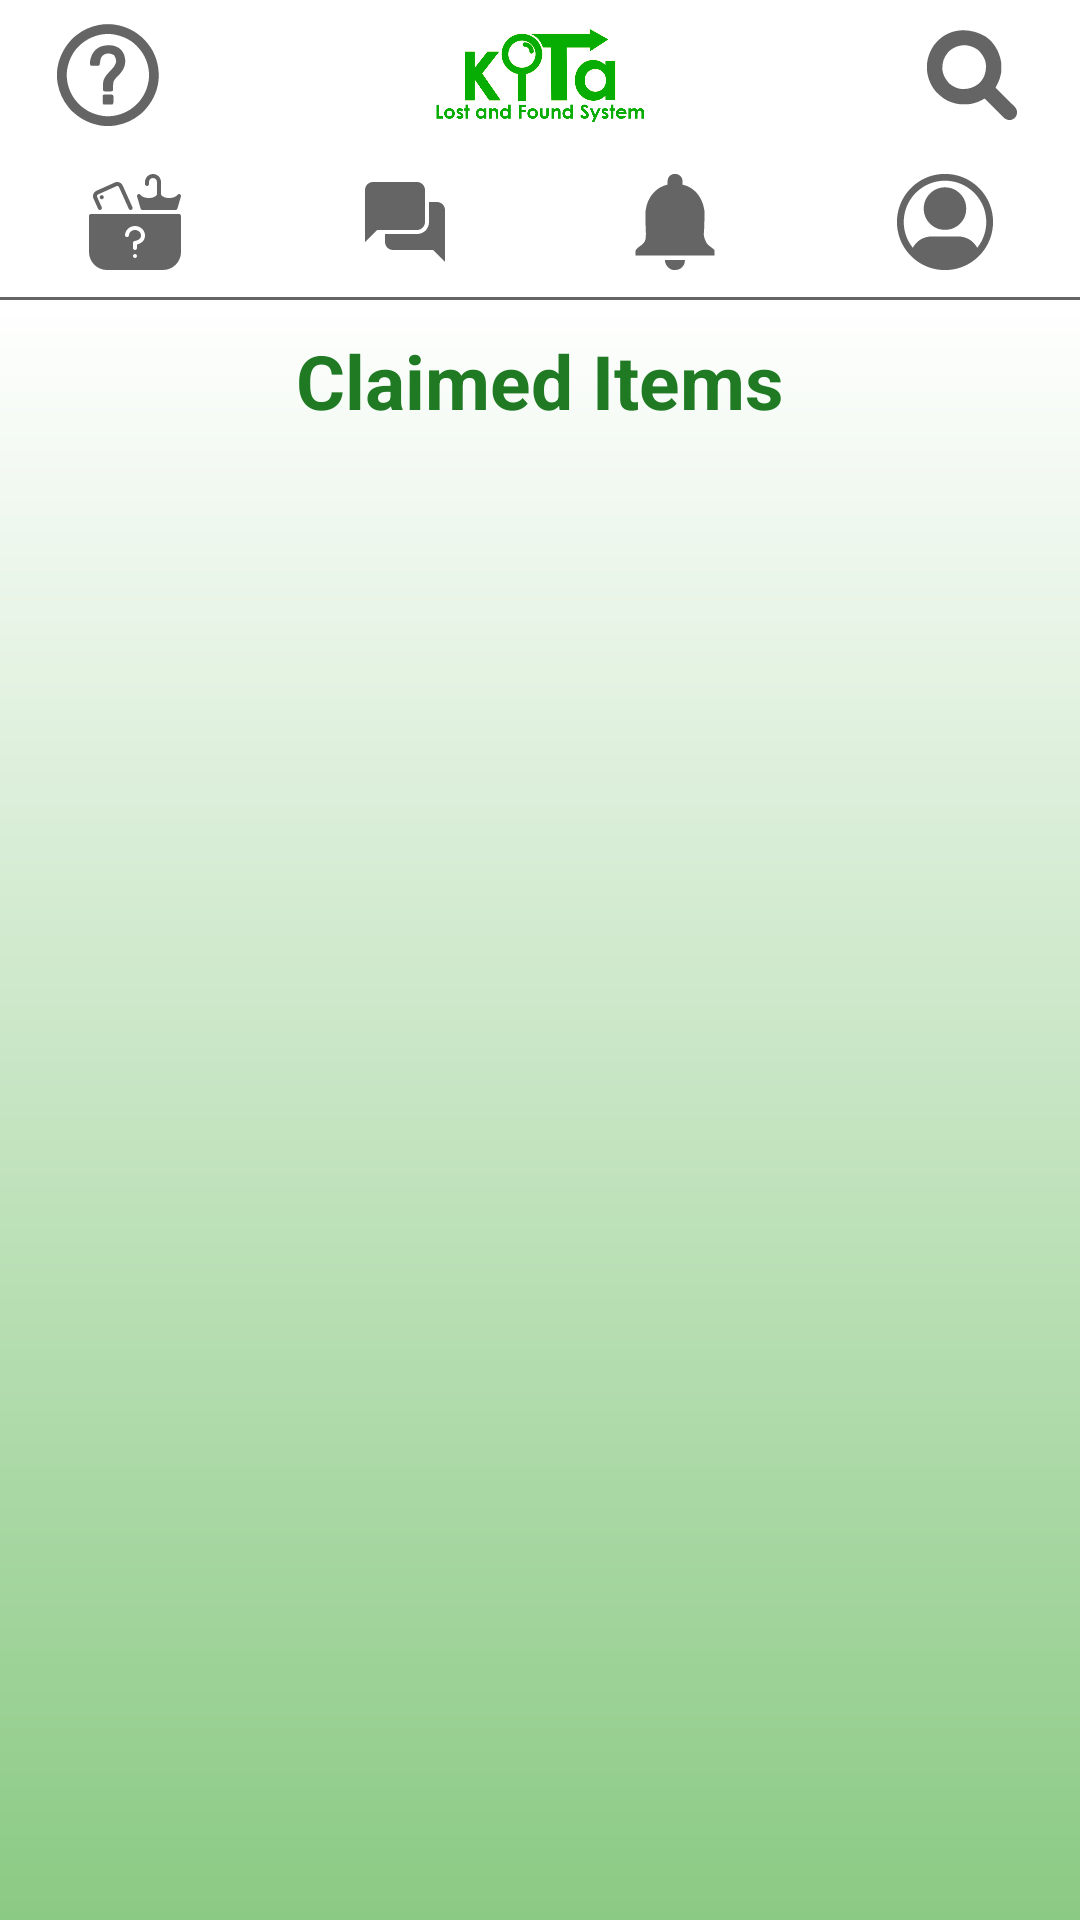

Where icons sit on this 1080px×1920px app screen, as (x1, y1, x2, y2):
chat: (365, 182, 445, 262)
guide: (57, 24, 159, 126)
lost: (89, 174, 181, 270)
notification: (635, 174, 715, 270)
profile: (897, 174, 993, 270)
search: (927, 30, 1017, 120)
